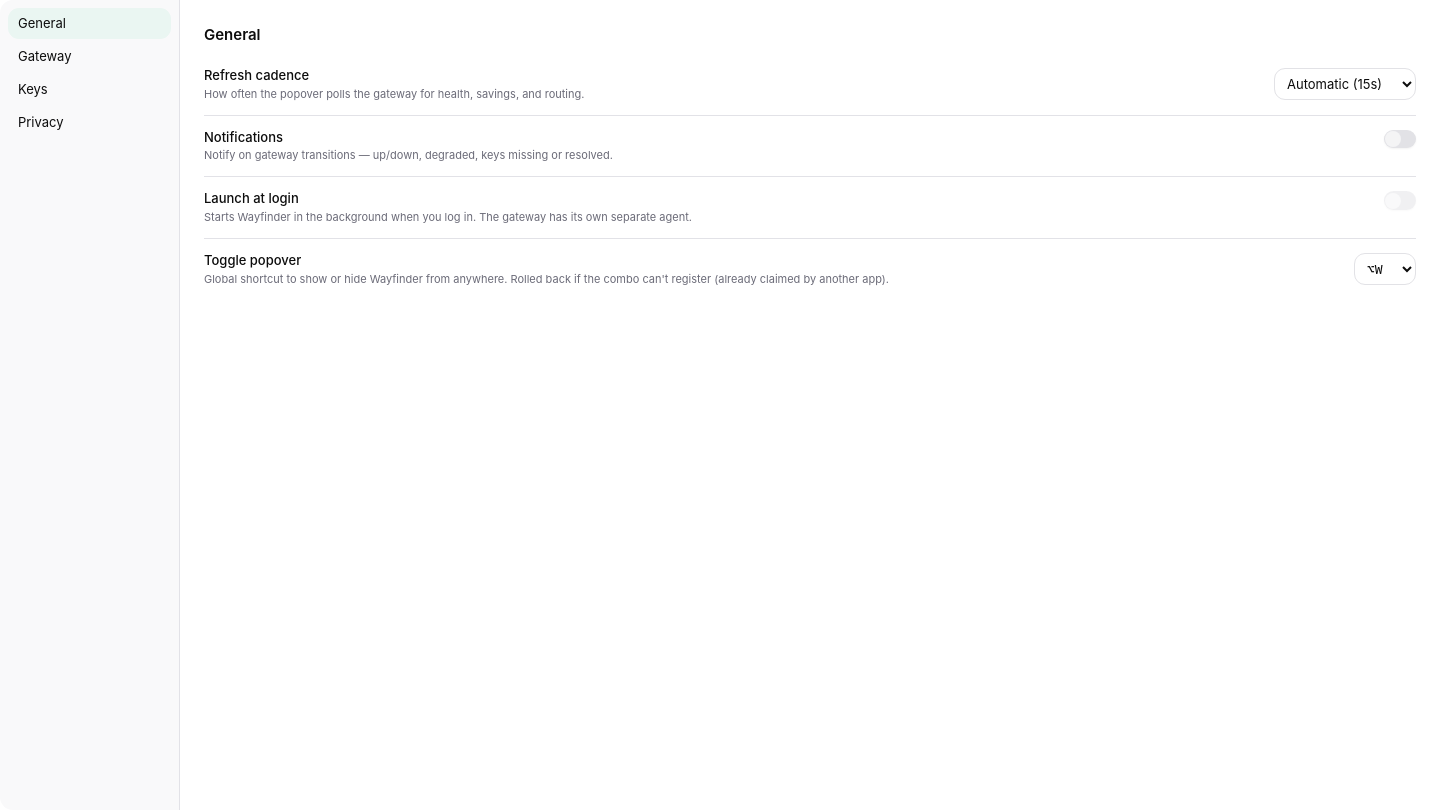
it: SettingsWindow — Keys section (WF-DESIGN-0015: keyed models from /router/models) › lists only keyed models, with env var + status; keyless local is absent
Step 1. Click the button "Keys" → (90, 89), box x1=8 y1=74 x2=171 y2=104
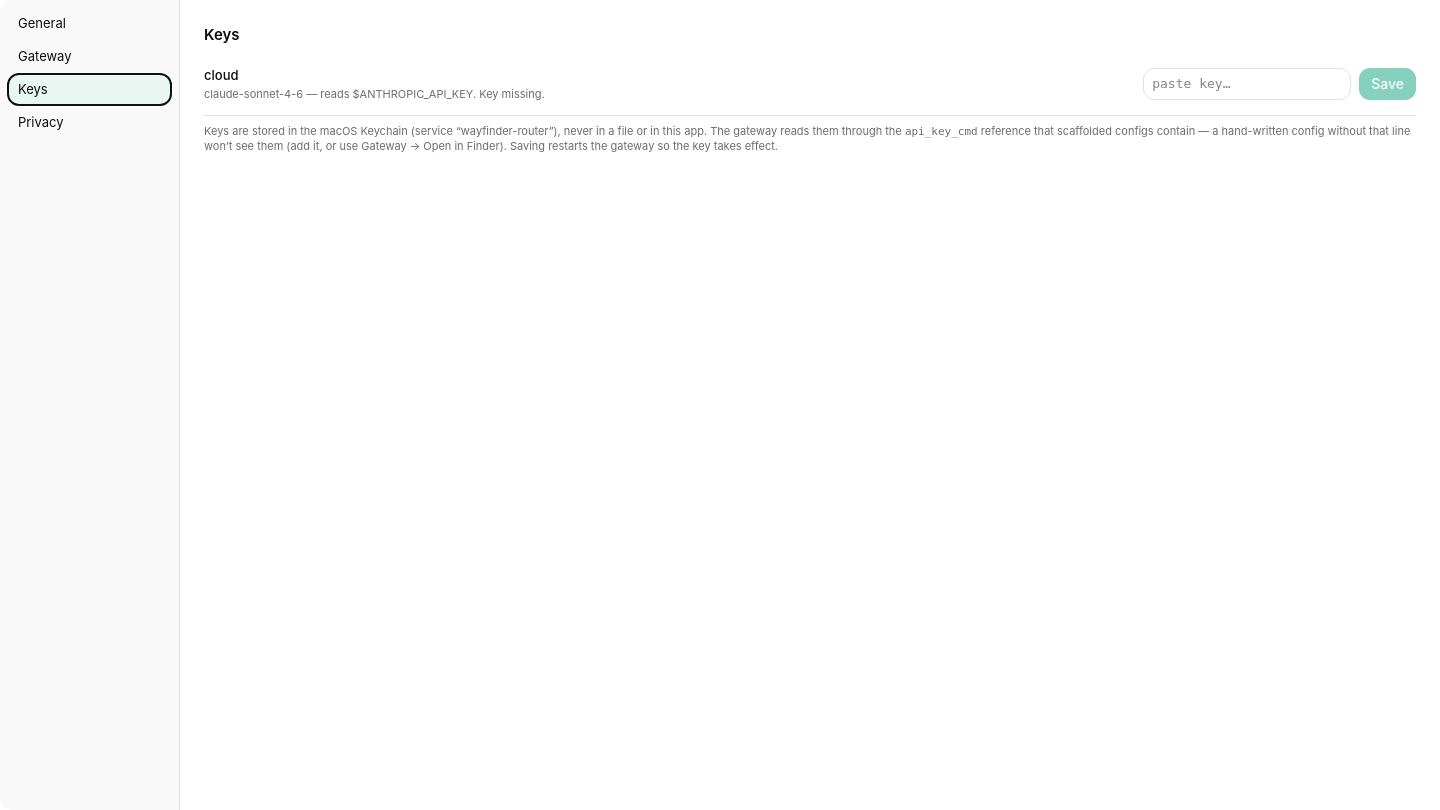
Check: the text "cloud" is shown, box x1=204 y1=67 x2=238 y2=83
Check: the text "claude-sonnet-4-6 — reads $ANTHROPIC_API_KEY. Key missing." is shown, box x1=204 y1=87 x2=545 y2=102
Check: the text "macOS Keychain" is shown, box x1=204 y1=124 x2=905 y2=138
